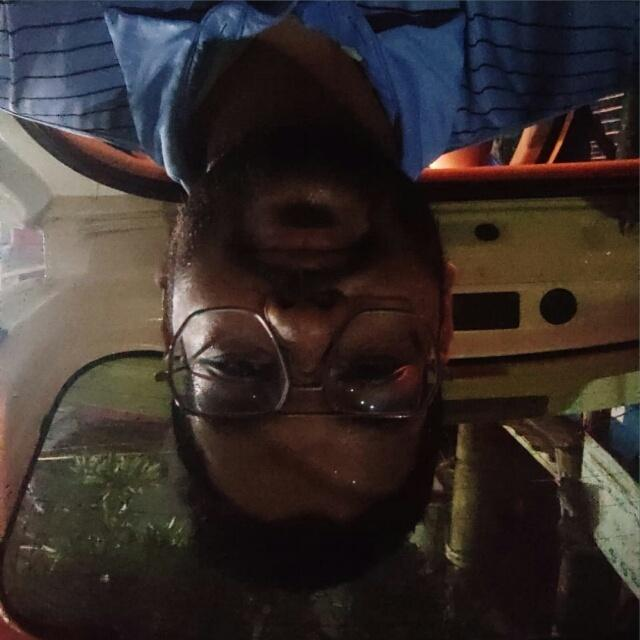Happy: (159, 105, 480, 542)
